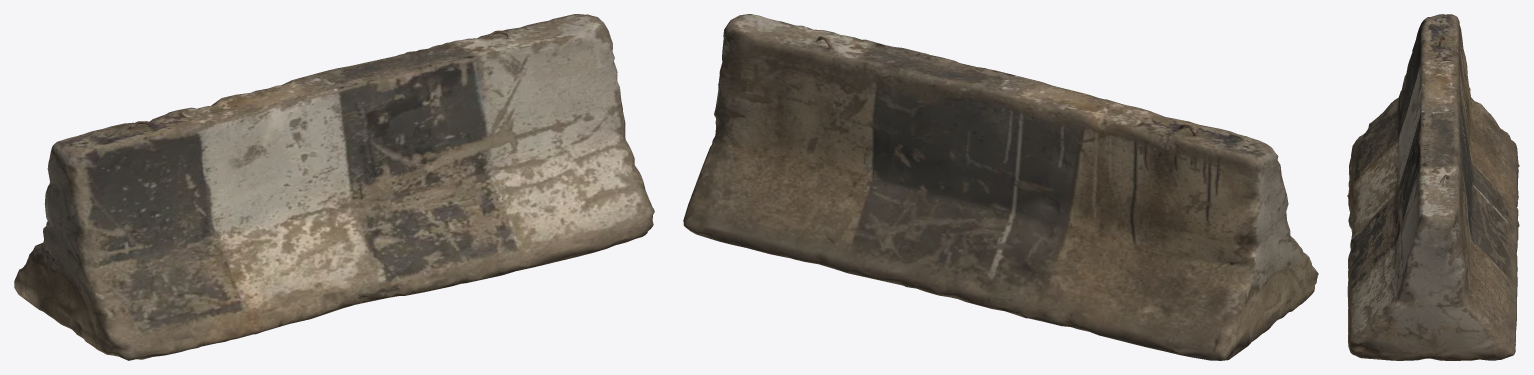
Rendered from prop-barrier-single.glb.
The picture shows the model from 3 angles, left to right: view 1: azimuth 30°, elevation 25°; view 2: azimuth 150°, elevation 25°; view 3: azimuth 270°, elevation 25°; orthographic projection. The views are drawn at different scales.
Parts seen in each view (by area): view 1: prop-barrier-single; view 2: prop-barrier-single; view 3: prop-barrier-single.
Boxes of the visible parts, x1,y1,x2,y2 form: prop-barrier-single: (14,14,654,360); prop-barrier-single: (683,14,1318,360); prop-barrier-single: (1347,14,1519,360).
Size of the model in its own units: 1.89 by 0.6275 by 0.657.
Materials: 1 (1 with a texture image).
